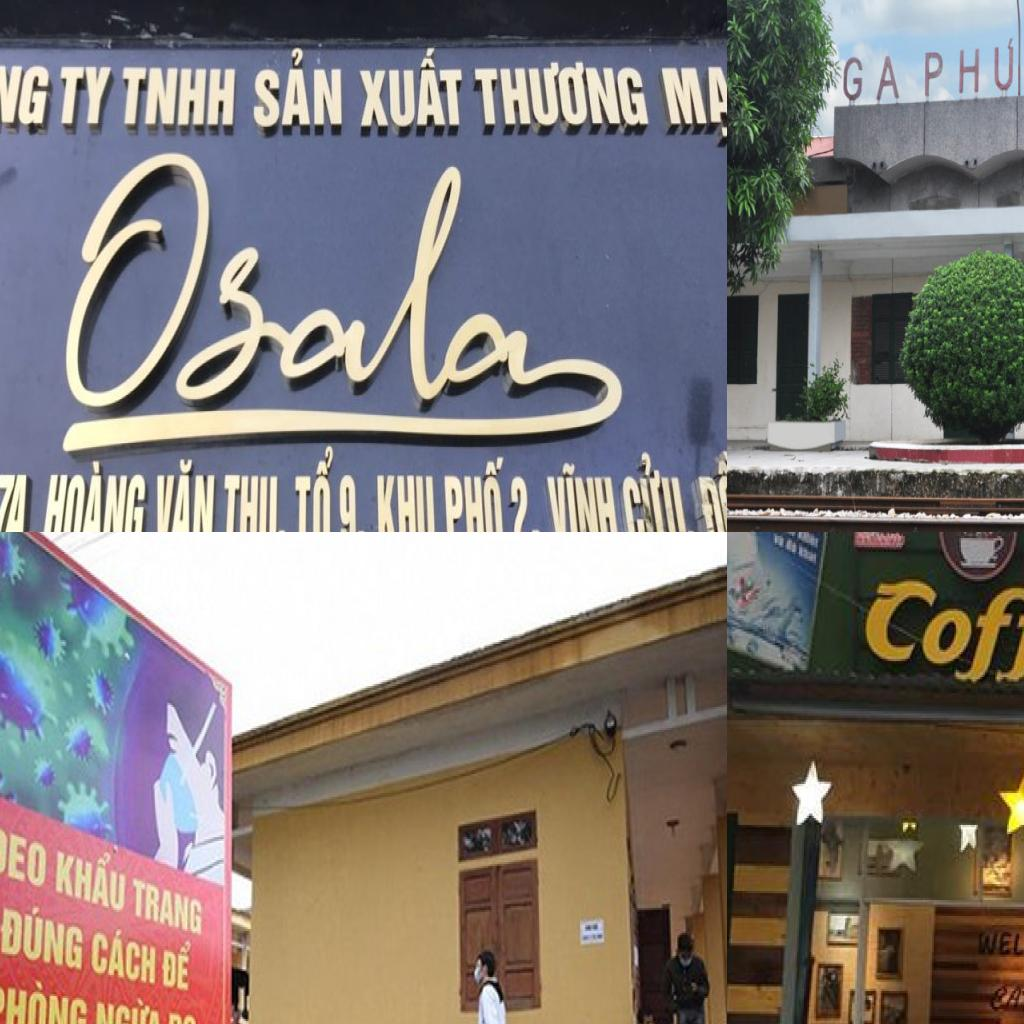text: (48, 144, 645, 454), (857, 577, 1024, 686), (470, 56, 653, 136), (356, 47, 467, 140), (252, 47, 346, 138), (121, 62, 242, 132), (41, 455, 150, 532), (617, 449, 701, 532), (919, 32, 1021, 100), (0, 896, 84, 975), (52, 834, 130, 918), (658, 60, 727, 145), (544, 461, 623, 532), (442, 449, 506, 532), (0, 967, 89, 1024), (153, 453, 217, 532), (130, 876, 204, 940), (90, 920, 159, 988), (0, 46, 52, 132), (58, 59, 117, 134), (221, 469, 288, 532), (374, 468, 438, 532), (295, 443, 337, 532), (0, 820, 50, 892), (684, 451, 727, 532), (841, 48, 904, 102), (94, 988, 165, 1024), (0, 465, 38, 532), (510, 468, 546, 532), (159, 931, 193, 994), (336, 467, 368, 532), (978, 927, 1024, 959), (986, 979, 1024, 1016), (166, 1009, 198, 1024)
